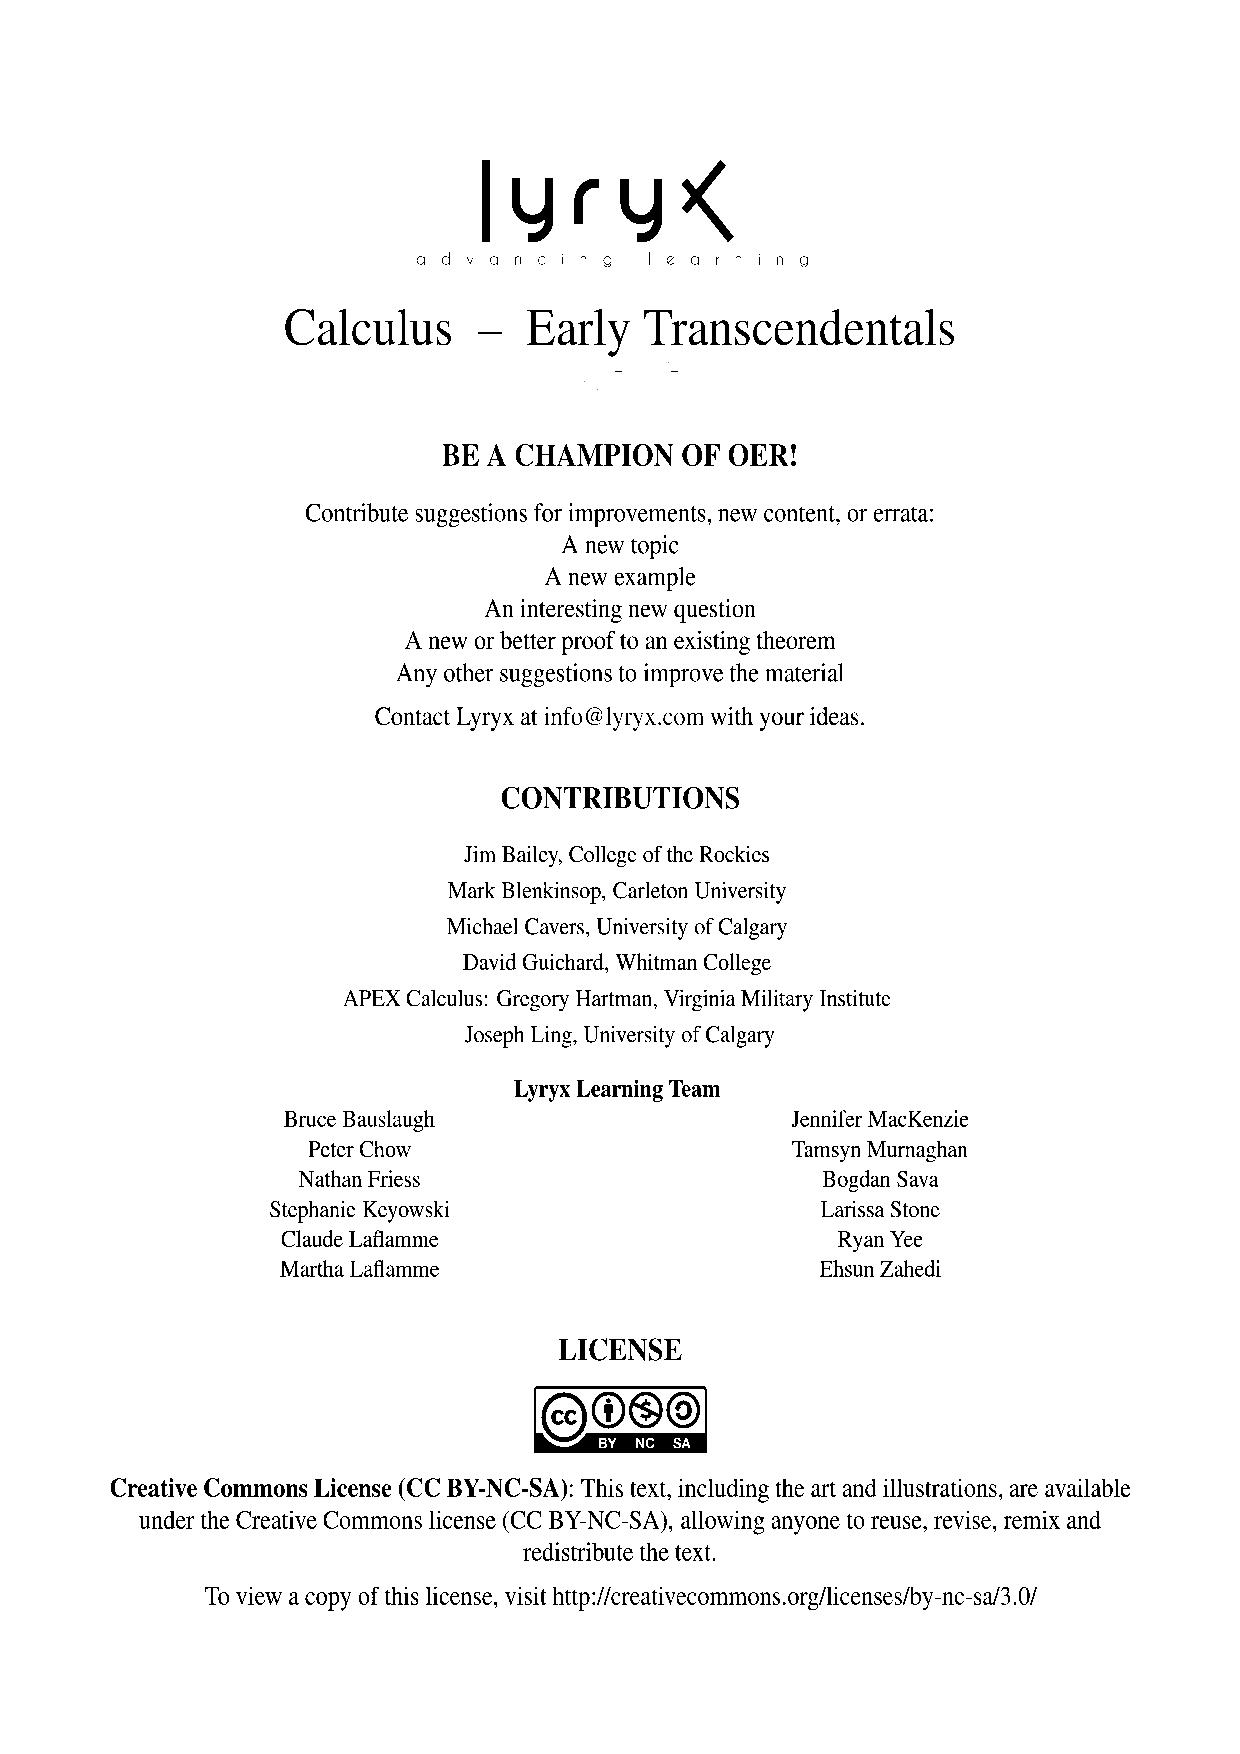title: (280, 302, 958, 360)
